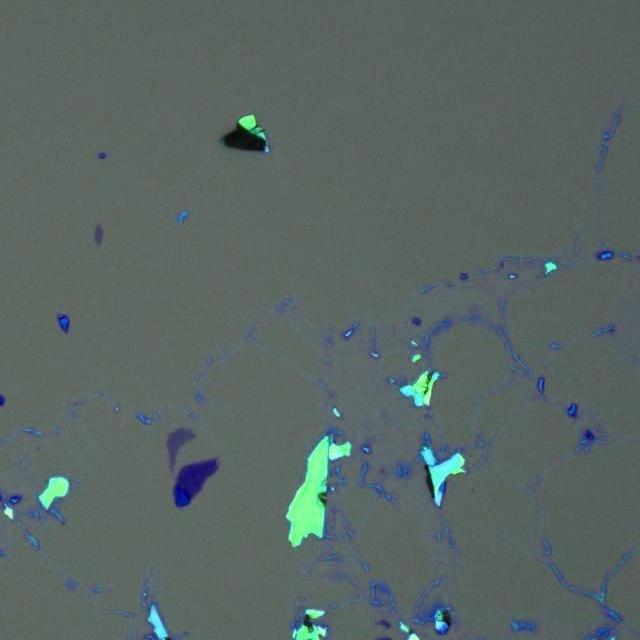monolayer-eWW4: (165, 425, 198, 472), (92, 220, 105, 248)
